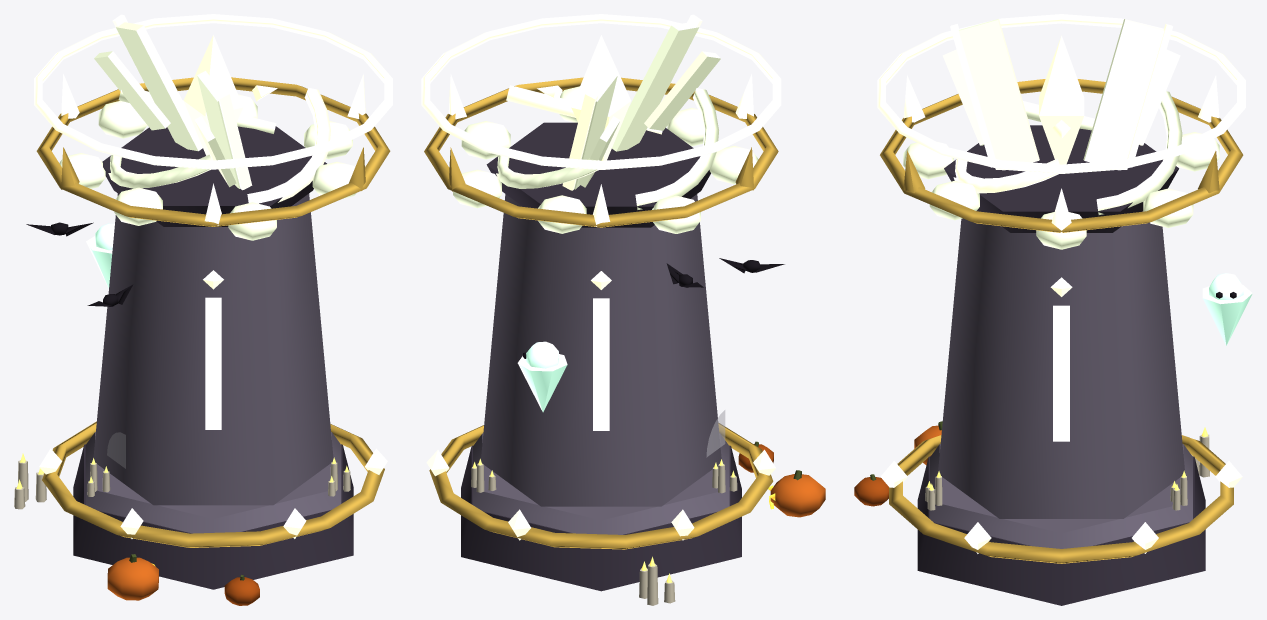
File: tower_element_elementTempest_ultimate.glb
3 renders of one model, left to right at view 1: azimuth 30°, elevation 25°; view 2: azimuth 150°, elevation 25°; view 3: azimuth 270°, elevation 25°, orthographic. The views are drawn at different scales.
Visible parts, largest first — view 1: pillar, base, pillar_cap, ult_halo, base_top, ult_crown_band, ult_ring, wing_r_vane, rune_2, scoop_0_blade, crystal, wing_r_vane_b (+16 smaller); view 2: pillar, base, pillar_cap, ult_halo, base_top, ult_crown_band, ult_ring, wing_l_vane, rune_1, scoop_2_blade, crystal, wing_l_vane_b (+16 smaller); view 3: pillar, base, pillar_cap, base_top, ult_halo, ult_crown_band, ult_ring, wing_l_vane, wing_r_vane, crystal, rune_0, scoop_1_blade (+15 smaller).
Boxes of the visible parts, x1=… form: pillar: x1=93, y1=193, x2=333, y2=505; base: x1=73, y1=444, x2=353, y2=589; pillar_cap: x1=102, y1=126, x2=326, y2=226; ult_halo: x1=34, y1=14, x2=392, y2=169; base_top: x1=85, y1=432, x2=341, y2=533; ult_crown_band: x1=36, y1=77, x2=390, y2=226; ult_ring: x1=42, y1=421, x2=384, y2=547; wing_r_vane: x1=116, y1=22, x2=202, y2=151; rune_2: x1=205, y1=297, x2=221, y2=429; scoop_0_blade: x1=247, y1=87, x2=330, y2=203; crystal: x1=183, y1=35, x2=243, y2=160; wing_r_vane_b: x1=94, y1=51, x2=170, y2=130; pillar: x1=481, y1=194, x2=721, y2=506; base: x1=461, y1=445, x2=741, y2=591; pillar_cap: x1=486, y1=122, x2=710, y2=227; ult_halo: x1=421, y1=14, x2=781, y2=169; base_top: x1=473, y1=433, x2=729, y2=534; ult_crown_band: x1=424, y1=77, x2=778, y2=227; ult_ring: x1=429, y1=423, x2=773, y2=549; wing_l_vane: x1=612, y1=22, x2=699, y2=151; rune_1: x1=593, y1=298, x2=609, y2=430; scoop_2_blade: x1=635, y1=88, x2=718, y2=209; crystal: x1=571, y1=35, x2=631, y2=160; wing_l_vane_b: x1=644, y1=51, x2=720, y2=130; pillar: x1=938, y1=209, x2=1185, y2=518; base: x1=917, y1=456, x2=1205, y2=605; pillar_cap: x1=944, y1=125, x2=1178, y2=232; base_top: x1=930, y1=444, x2=1192, y2=548; ult_halo: x1=877, y1=14, x2=1245, y2=173; ult_crown_band: x1=880, y1=79, x2=1243, y2=232; ult_ring: x1=889, y1=435, x2=1233, y2=563; wing_l_vane: x1=959, y1=19, x2=1039, y2=170; wing_r_vane: x1=1083, y1=19, x2=1164, y2=170; crystal: x1=1039, y1=35, x2=1084, y2=164; rune_0: x1=1053, y1=305, x2=1069, y2=441; scoop_1_blade: x1=1096, y1=91, x2=1182, y2=214.
Bounding box in the file's own units: 0.4395 × 0.64 × 0.4619.
